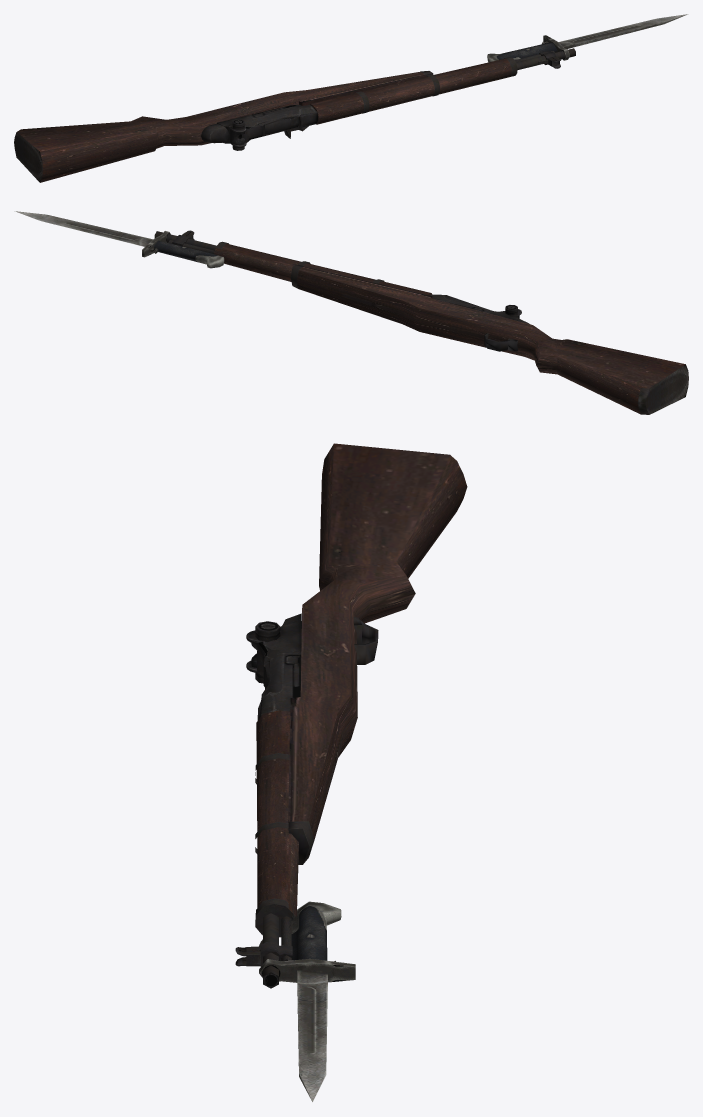
Rendered from weapon_usa_m1garand_rifle_bayonet_LOD11.obj.
3 renders of one model, top to bottom at view 1: azimuth 30°, elevation 25°; view 2: azimuth 150°, elevation 25°; view 3: azimuth 270°, elevation 25°, orthographic. The views are drawn at different scales.
Parts seen in each view (by area): view 1: TomGroup_2, TomGroup_0, TomGroup_1; view 2: TomGroup_2, TomGroup_1, TomGroup_0; view 3: TomGroup_2, TomGroup_0, TomGroup_1.
Boxes of the visible parts, left/top/right/bottom form: TomGroup_2: left=14, top=58, right=514, bottom=182; TomGroup_0: left=201, top=48, right=575, bottom=150; TomGroup_1: left=487, top=14, right=688, bottom=62; TomGroup_2: left=213, top=243, right=688, bottom=414; TomGroup_1: left=14, top=211, right=224, bottom=268; TomGroup_0: left=154, top=230, right=529, bottom=351; TomGroup_2: left=256, top=443, right=467, bottom=937; TomGroup_0: left=235, top=613, right=378, bottom=988; TomGroup_1: left=259, top=901, right=355, bottom=1101.
Bounding box in the file's own units: 136 × 7.24 × 21.22.
3 materials, 3 textured.
